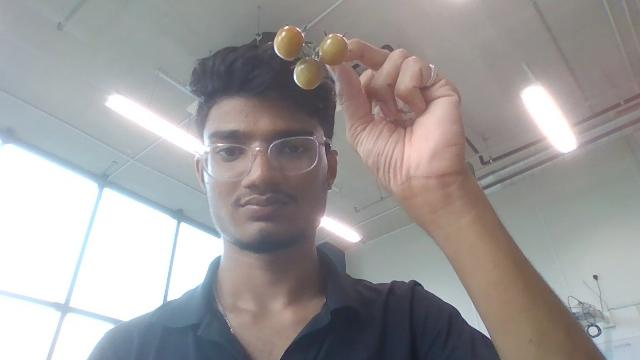Fully Grown: (273, 24, 305, 61), (293, 56, 325, 91), (317, 32, 349, 67)
